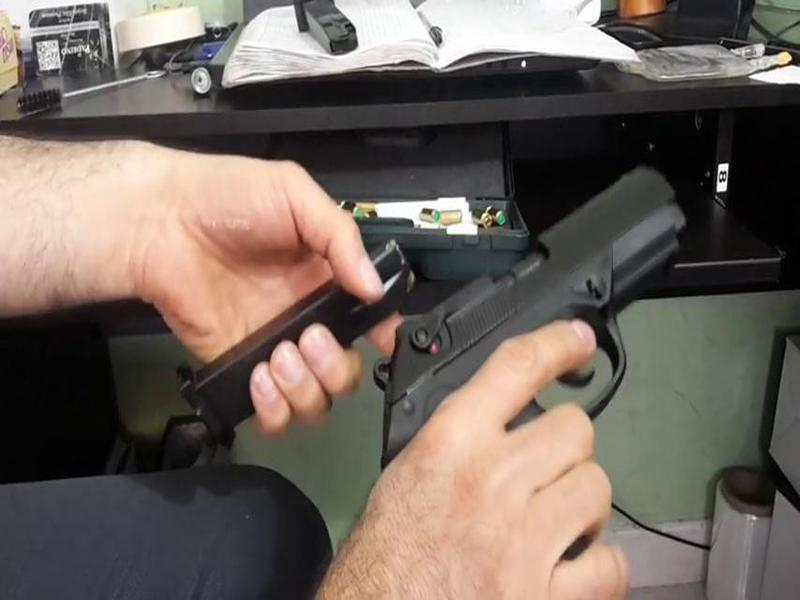Pistola: (384, 151, 697, 504)
